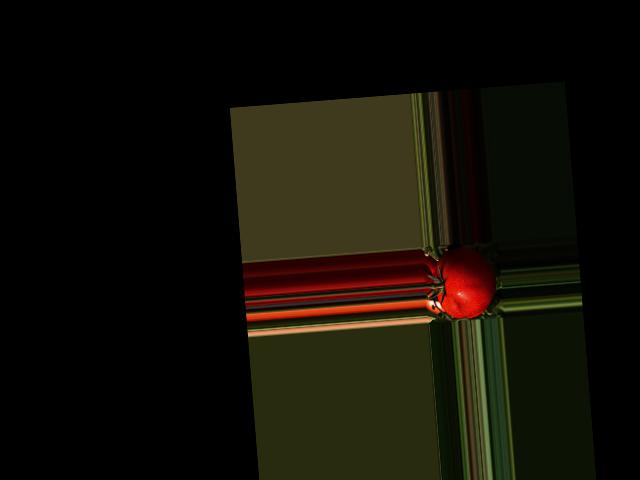tomato: (432, 245, 498, 321)
